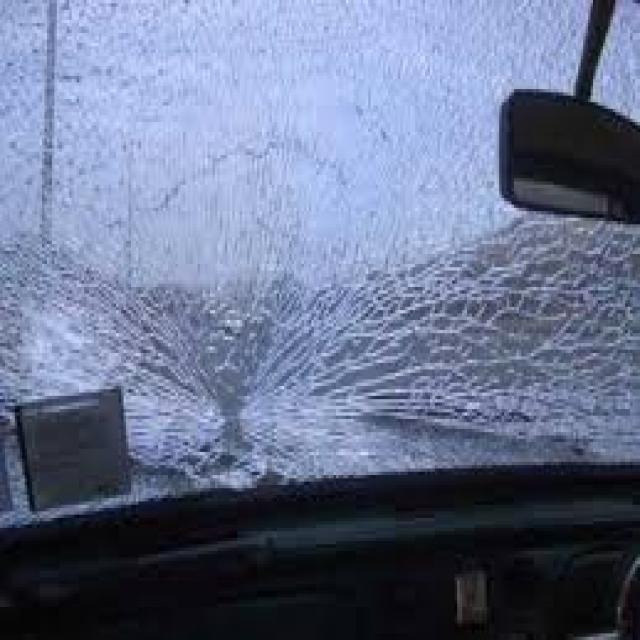damaged-windscreen: (0, 0, 640, 498)
